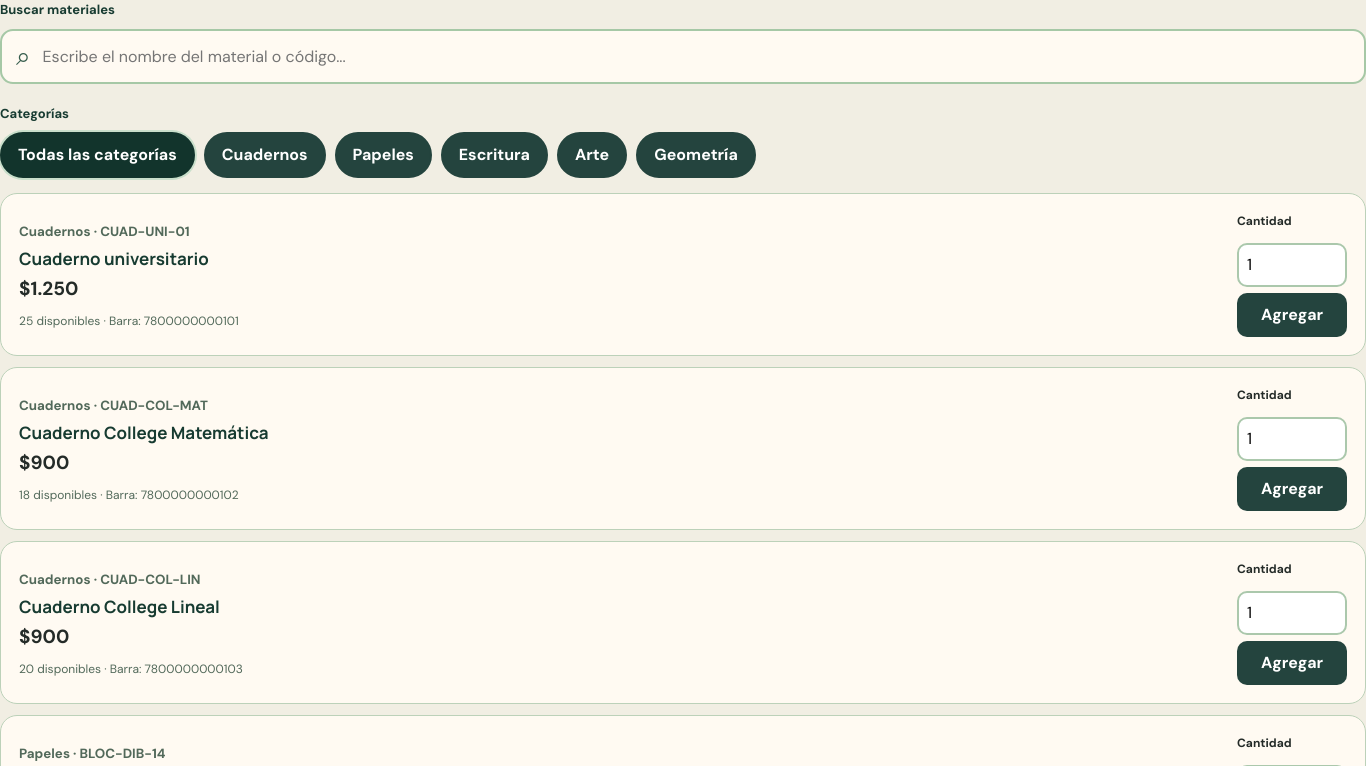
Test case: EduSaldo Frontend - Suite de Pruebas Reales de Negocio (Sprints 9 y 10) › 7. ProductList filtra reactivamente por nombre o código de barra
The width and height of the screenshot is (1366, 766).
Type "Goma" into the search field with test id "search-input" at (695, 56), box x1=41 y1=30 x2=1350 y2=82
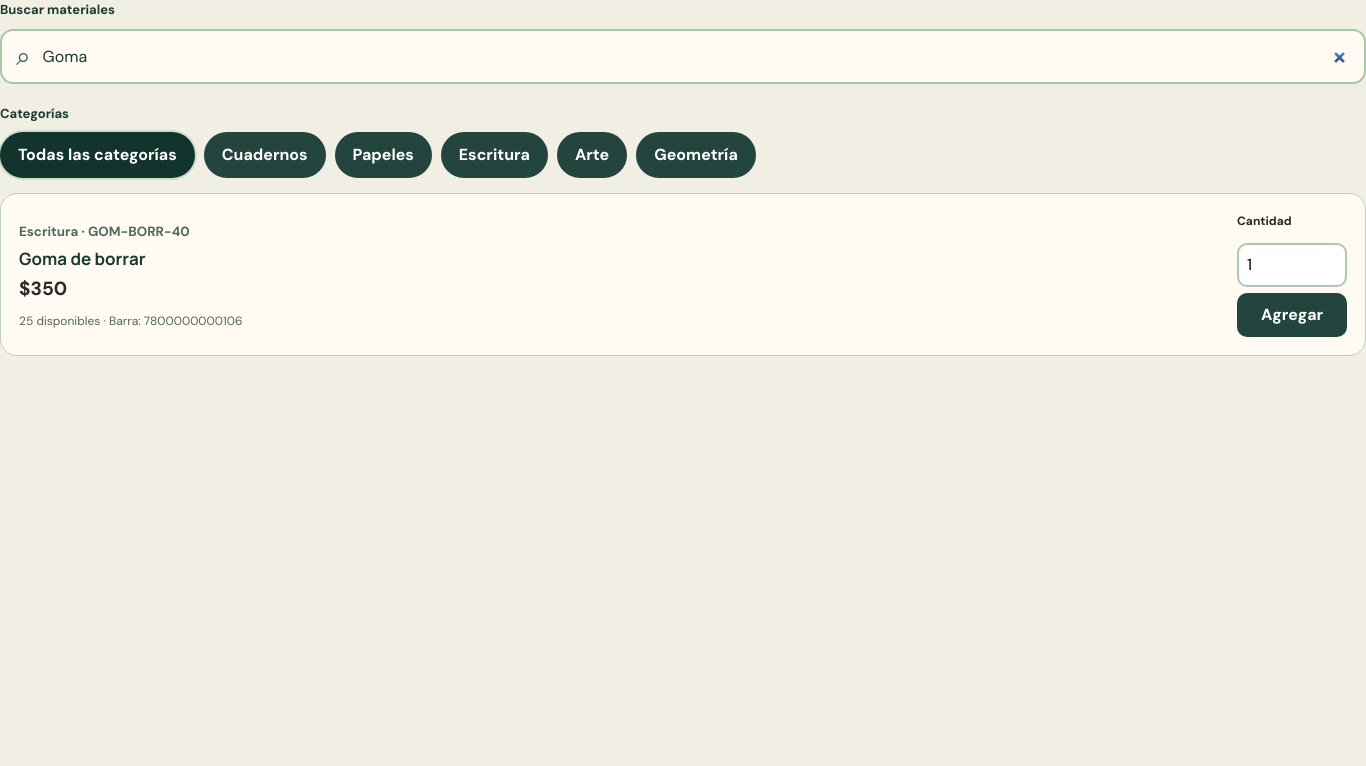
Expected: the heading "Goma de borrar" is shown, x1=19 y1=247 x2=146 y2=270
Expected: the heading "Cuaderno universitario" is gone
